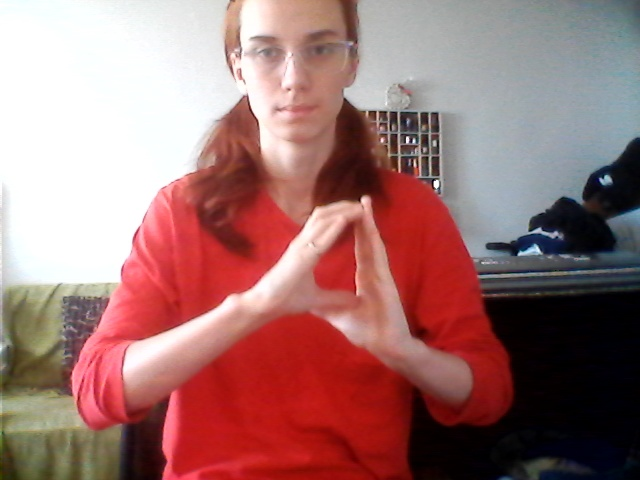d: (263, 188, 410, 357)
